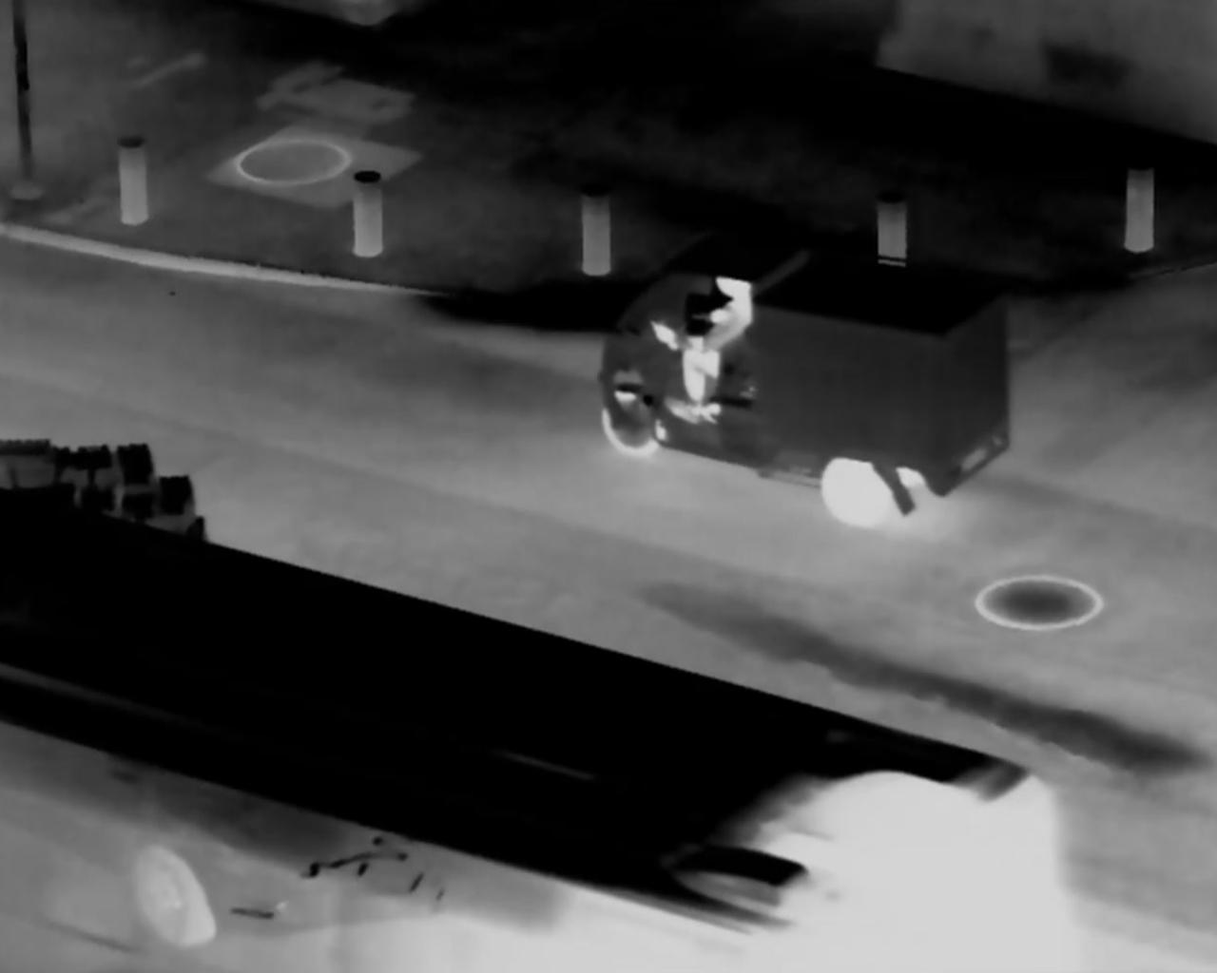person: (668, 275, 754, 418)
